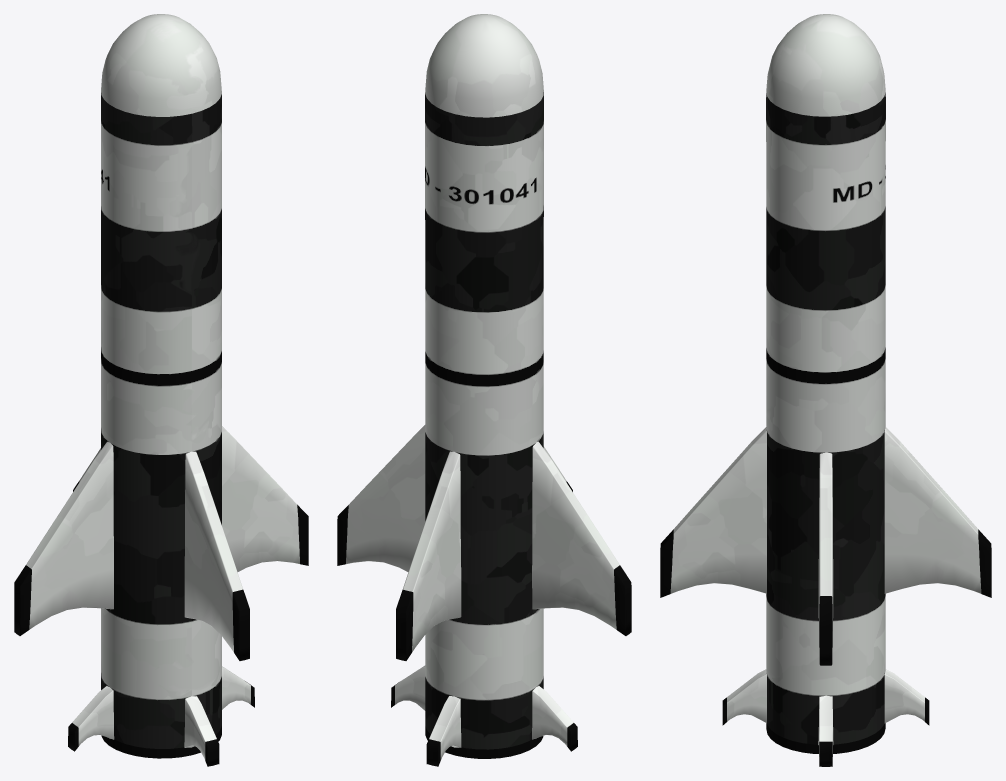
File: fighter_missile.glb
The picture shows the model from 3 angles, left to right: view 1: azimuth 30°, elevation 25°; view 2: azimuth 150°, elevation 25°; view 3: azimuth 270°, elevation 25°; orthographic projection.
Parts seen in each view (by area): view 1: Object_2; view 2: Object_2; view 3: Object_2.
Part boxes in pixels (x1,y1,x2,y2): Object_2: [14, 14, 308, 766]; Object_2: [337, 14, 631, 766]; Object_2: [660, 14, 991, 766].
Bounding box in the file's own units: 2.77 × 6.55 × 2.77.
Materials: 1 (1 with a texture image).
